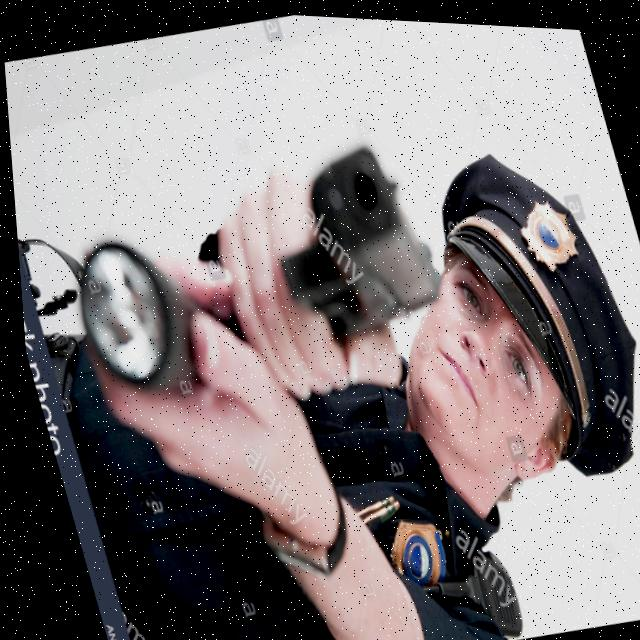pistol: (242, 123, 455, 358)
